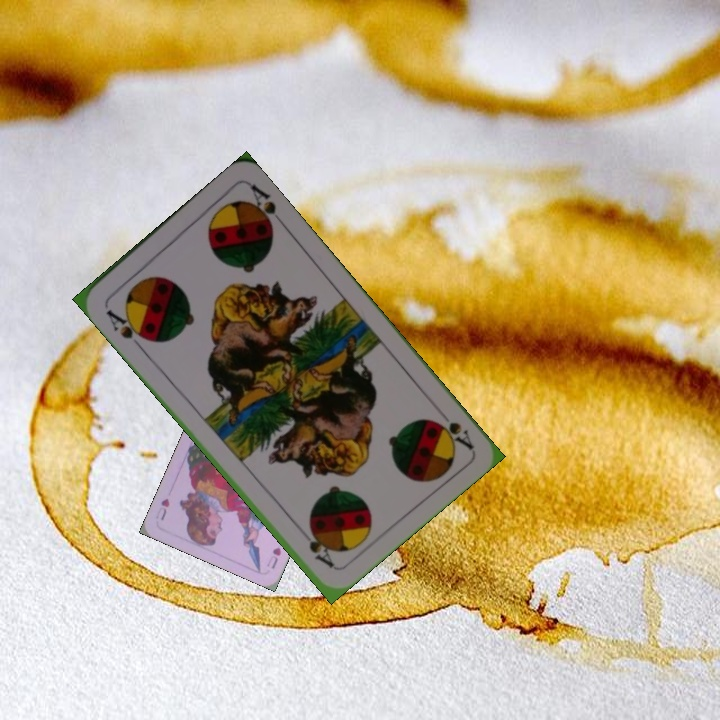HU: (262, 543, 284, 571)
SA: (428, 403, 476, 452), (102, 305, 151, 351)
